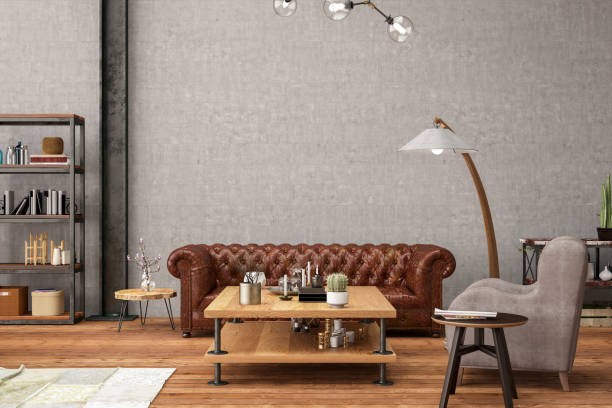chair: (444, 233, 590, 394)
floor lamp: (395, 116, 508, 280)
flower vase: (126, 237, 167, 290)
side table: (430, 310, 528, 407), (114, 284, 177, 333)
sofa: (163, 240, 458, 343), (596, 171, 612, 240), (324, 271, 350, 306)
table: (202, 278, 397, 387)
